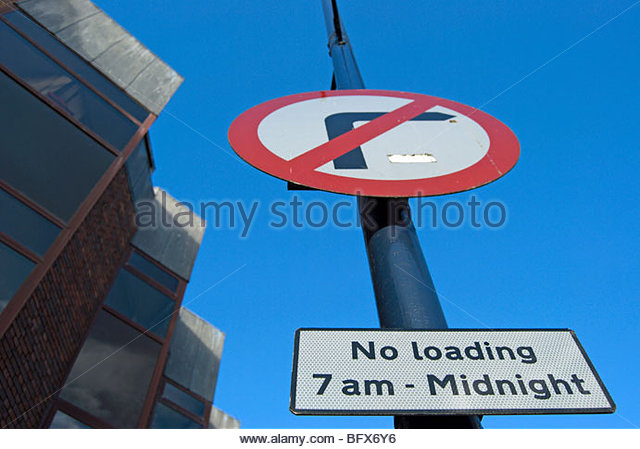No_right_turn: (229, 89, 522, 196)
